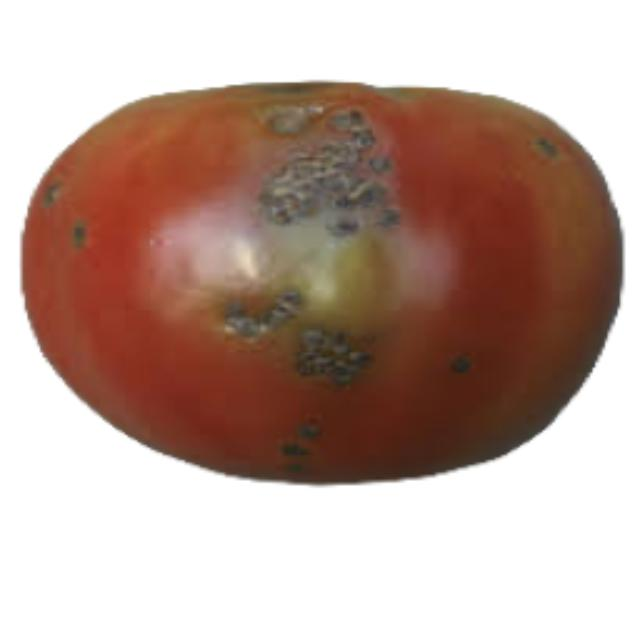defect: (12, 73, 631, 485)
